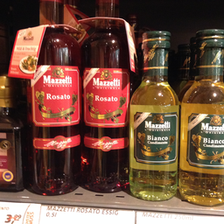vinegar: (9, 1, 82, 198), (81, 1, 127, 194), (128, 29, 177, 203), (179, 30, 224, 209)
